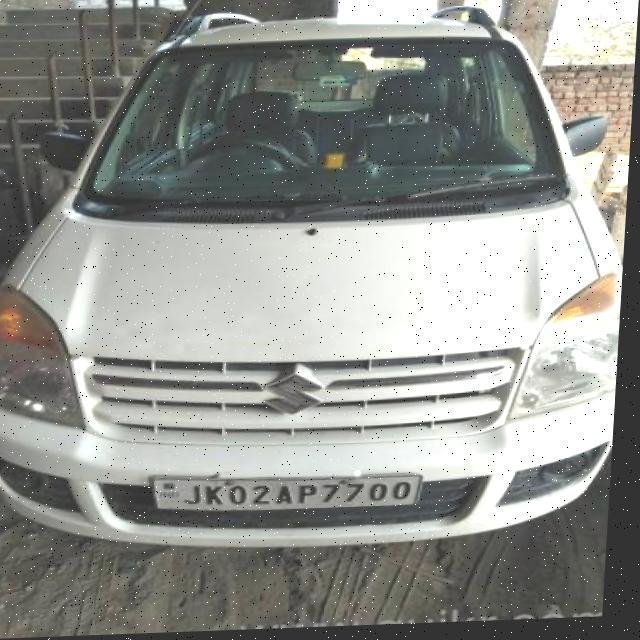plate: (147, 471, 436, 517)
